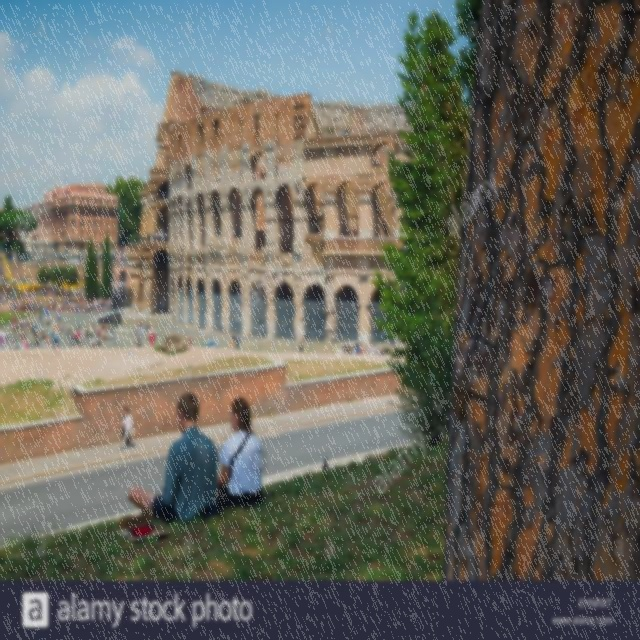pessoa: (126, 389, 220, 524), (216, 396, 266, 510), (10, 284, 86, 314), (118, 408, 136, 450), (84, 296, 110, 320), (120, 404, 132, 448), (138, 227, 169, 241), (38, 325, 54, 348), (74, 323, 88, 349), (50, 322, 60, 355), (118, 286, 130, 310), (148, 322, 158, 347), (0, 328, 10, 351), (135, 320, 143, 348), (0, 292, 11, 312), (379, 338, 391, 356), (24, 318, 37, 333), (28, 332, 40, 348), (136, 334, 145, 352), (105, 330, 115, 344), (367, 343, 378, 355), (230, 331, 237, 349), (95, 334, 102, 350), (112, 314, 118, 332), (110, 256, 128, 262), (112, 333, 118, 350), (13, 336, 20, 350), (148, 323, 152, 347), (235, 332, 240, 350), (88, 323, 93, 341), (66, 326, 71, 343), (105, 323, 115, 331), (298, 340, 304, 353), (64, 321, 71, 332), (101, 326, 106, 341), (91, 321, 96, 336), (358, 342, 364, 354), (21, 316, 25, 334), (392, 224, 397, 238), (46, 313, 51, 327), (145, 322, 149, 338), (90, 334, 94, 350), (24, 340, 30, 350), (202, 342, 212, 348), (13, 322, 18, 334), (11, 341, 17, 351), (188, 334, 192, 348), (100, 320, 104, 334), (18, 320, 22, 334), (40, 314, 44, 328), (59, 322, 63, 336), (134, 323, 138, 336), (57, 311, 61, 324), (22, 328, 26, 341), (150, 304, 154, 316), (96, 327, 100, 339), (10, 318, 13, 332), (352, 346, 357, 354), (38, 312, 42, 322), (59, 309, 62, 321), (133, 340, 137, 348), (14, 316, 18, 324), (14, 314, 18, 322), (70, 330, 75, 336), (112, 308, 115, 314), (22, 322, 24, 329), (356, 342, 358, 347)
